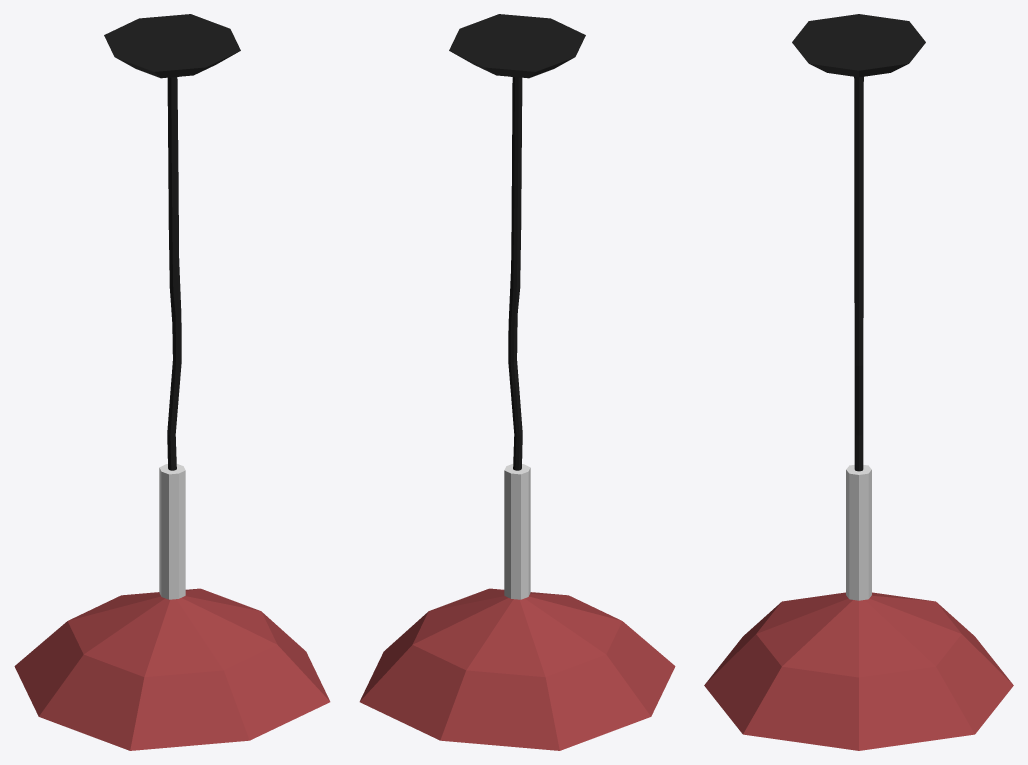
The model's file is lamp.fbx.
The picture shows the model from 3 angles, left to right: view 1: azimuth 30°, elevation 25°; view 2: azimuth 150°, elevation 25°; view 3: azimuth 270°, elevation 25°; orthographic projection.
Parts seen in each view (by area): view 1: Plane; view 2: Plane; view 3: Plane.
Boxes of the visible parts, bbox=[...] form: Plane: bbox=[14, 14, 330, 750]; Plane: bbox=[359, 14, 675, 750]; Plane: bbox=[704, 14, 1013, 750].
Size of the model in its own units: 616 by 1410 by 616.
